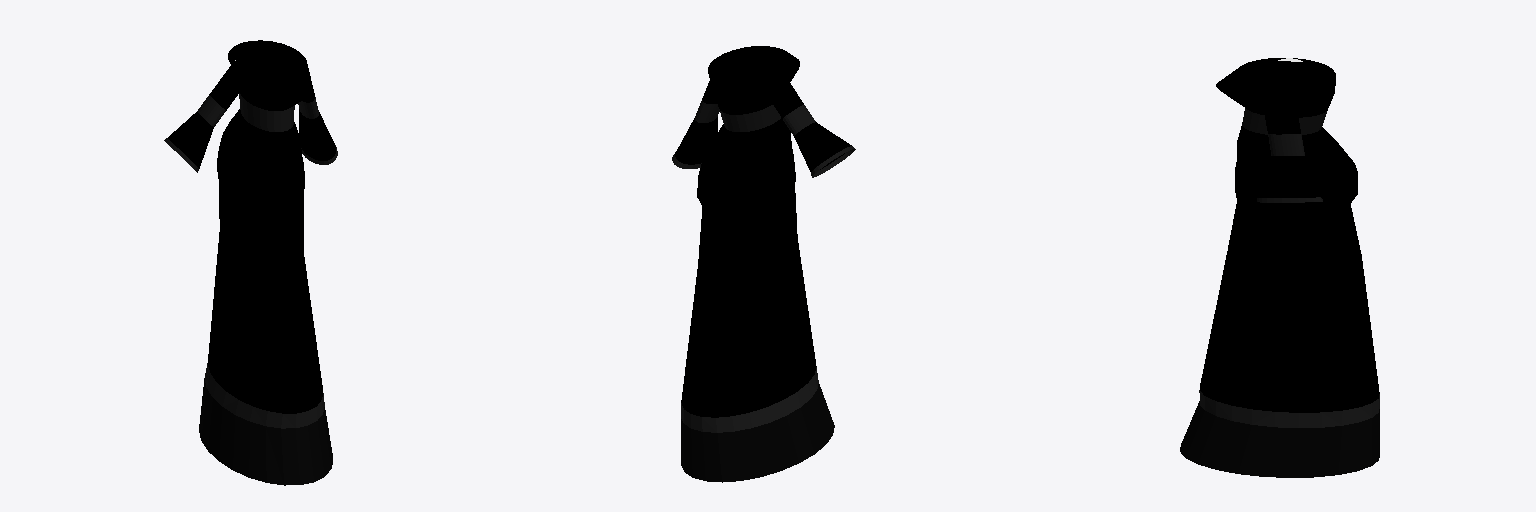
File: black_dress_scale120.obj
3 renders of one model, left to right at view 1: azimuth 30°, elevation 25°; view 2: azimuth 150°, elevation 25°; view 3: azimuth 270°, elevation 25°, orthographic.
Visible parts, largest first — view 1: Mesh3 my_dress1 Model, Mesh2 Group2 my_dress1 Model, Mesh1 Group1 my_dress1 Model; view 2: Mesh3 my_dress1 Model, Mesh2 Group2 my_dress1 Model, Mesh1 Group1 my_dress1 Model; view 3: Mesh3 my_dress1 Model, Mesh1 Group1 my_dress1 Model.
Boxes of the visible parts, <box> form: Mesh3 my_dress1 Model: <box>199,40,332,485</box>; Mesh2 Group2 my_dress1 Model: <box>164,60,244,172</box>; Mesh1 Group1 my_dress1 Model: <box>298,54,337,164</box>; Mesh3 my_dress1 Model: <box>681,46,834,482</box>; Mesh2 Group2 my_dress1 Model: <box>764,69,855,177</box>; Mesh1 Group1 my_dress1 Model: <box>672,81,719,168</box>; Mesh3 my_dress1 Model: <box>1180,58,1379,477</box>; Mesh1 Group1 my_dress1 Model: <box>1257,89,1322,202</box>.
Size of the model in its own units: 0.5028 by 1.14 by 0.5394.